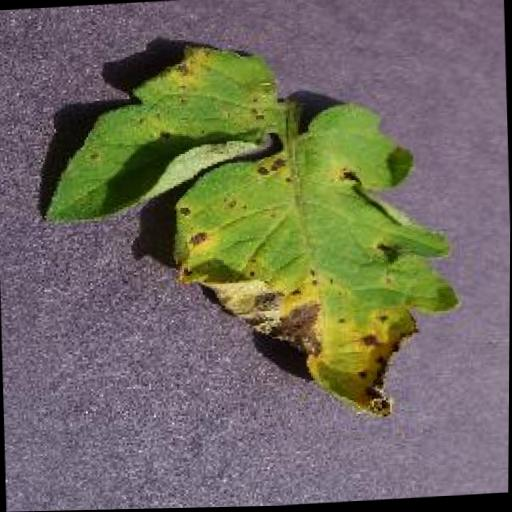Septoria: (29, 26, 457, 433)
